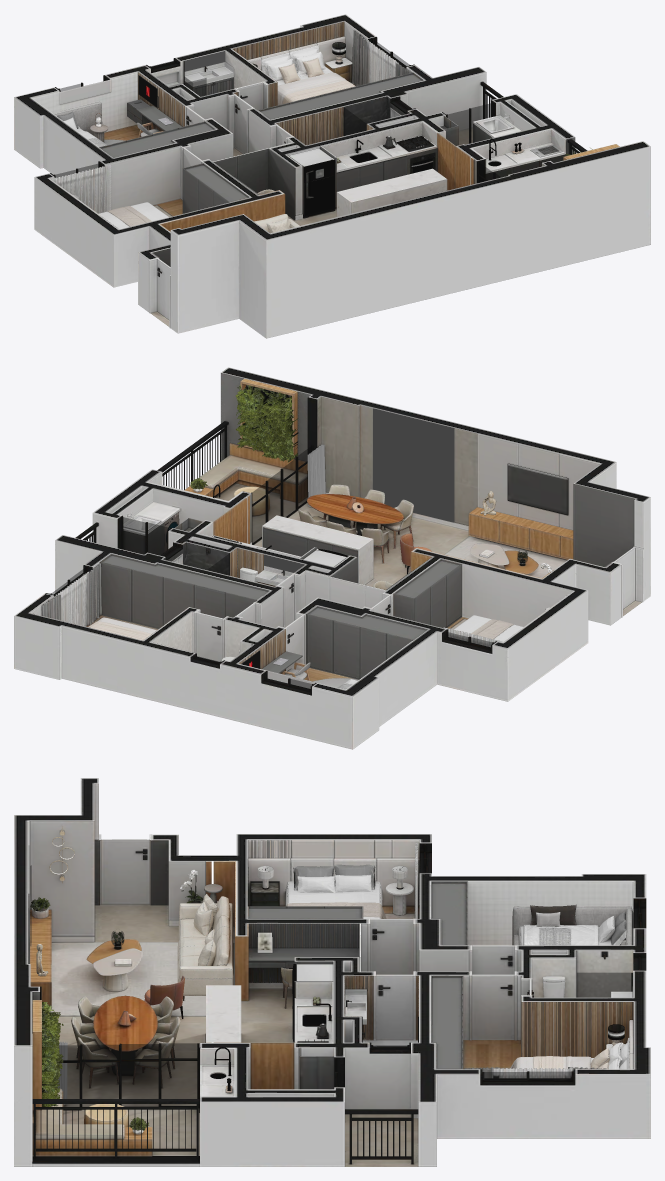
Rendered from apartment_floor_plan_no_draco.glb.glb.
3 renders of one model, top to bottom at view 1: azimuth 30°, elevation 25°; view 2: azimuth 150°, elevation 25°; view 3: azimuth 270°, elevation 25°, orthographic. The views are drawn at different scales.
Visible parts, largest first — view 1: rendertotexture_0, moveis_2, vidro_7, metais_9, espelho_5; view 2: rendertotexture_0, espelho_5, vidro_7, plantas_8, moveis_2, cortina_1; view 3: rendertotexture_0, moveis_2, vidro_7, plantas_8, metais_9.
Part boxes in pixels (x1,y1,x2,y2): rendertotexture_0: [14, 14, 650, 338]; moveis_2: [53, 45, 355, 233]; vidro_7: [55, 39, 500, 182]; metais_9: [350, 114, 562, 166]; espelho_5: [184, 51, 494, 198]; rendertotexture_0: [14, 367, 650, 749]; espelho_5: [157, 408, 454, 651]; vidro_7: [52, 446, 527, 689]; plantas_8: [190, 385, 298, 489]; moveis_2: [88, 491, 523, 689]; cortina_1: [307, 444, 325, 507]; rendertotexture_0: [14, 778, 650, 1166]; moveis_2: [36, 864, 633, 1069]; vidro_7: [58, 900, 630, 1106]; plantas_8: [30, 897, 149, 1130]; metais_9: [210, 1003, 331, 1089].
Size of the model in its own units: 10.72 by 2.3 by 10.74.
9 materials, 4 textured.
